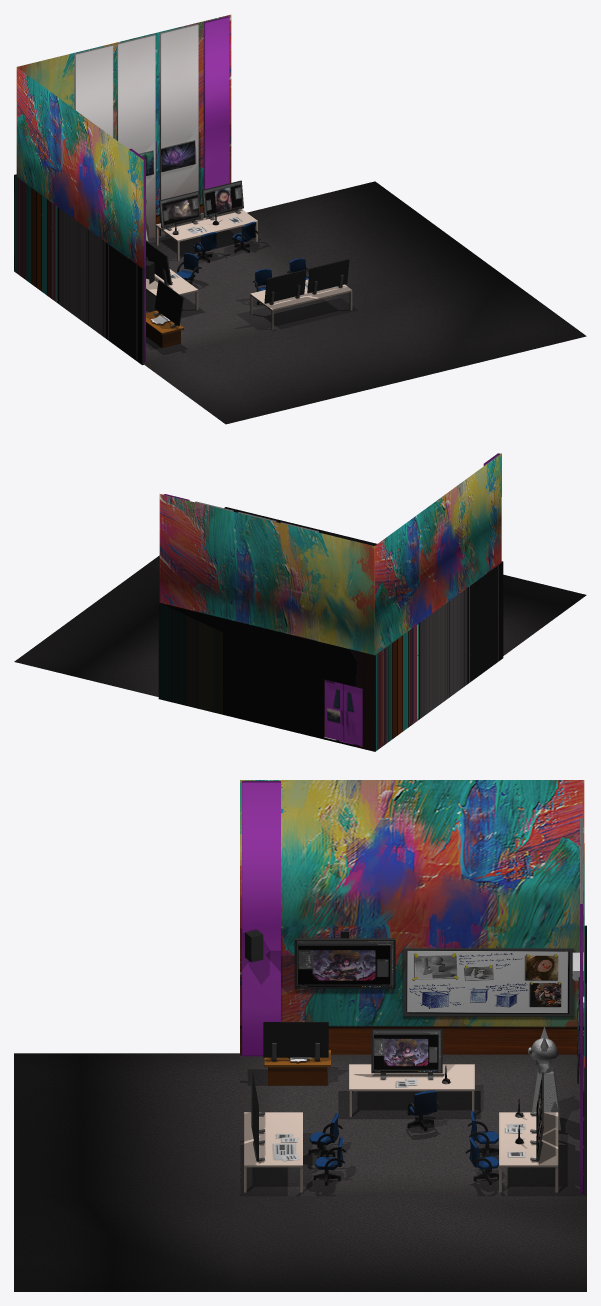
File: Tx_Interior_Education_Art_20170727.fbx
The picture shows the model from 3 angles, top to bottom: view 1: azimuth 30°, elevation 25°; view 2: azimuth 150°, elevation 25°; view 3: azimuth 270°, elevation 25°; orthographic projection. The views are drawn at different scales.
Parts seen in each view (by area): view 1: polySurface1, polySurface8, layer2_bake; view 2: polySurface1, polySurface8; view 3: polySurface1, polySurface8, layer2_bake.
Part boxes in pixels (bbox=[...]): polySurface1: bbox=[16, 14, 586, 424]; polySurface8: bbox=[14, 123, 358, 365]; layer2_bake: bbox=[146, 180, 349, 326]; polySurface1: bbox=[14, 453, 586, 696]; polySurface8: bbox=[158, 561, 503, 751]; polySurface1: bbox=[14, 780, 586, 1291]; polySurface8: bbox=[240, 925, 586, 1196]; layer2_bake: bbox=[245, 929, 583, 1185].
Size of the model in its own units: 43.67 by 23.65 by 44.34.
